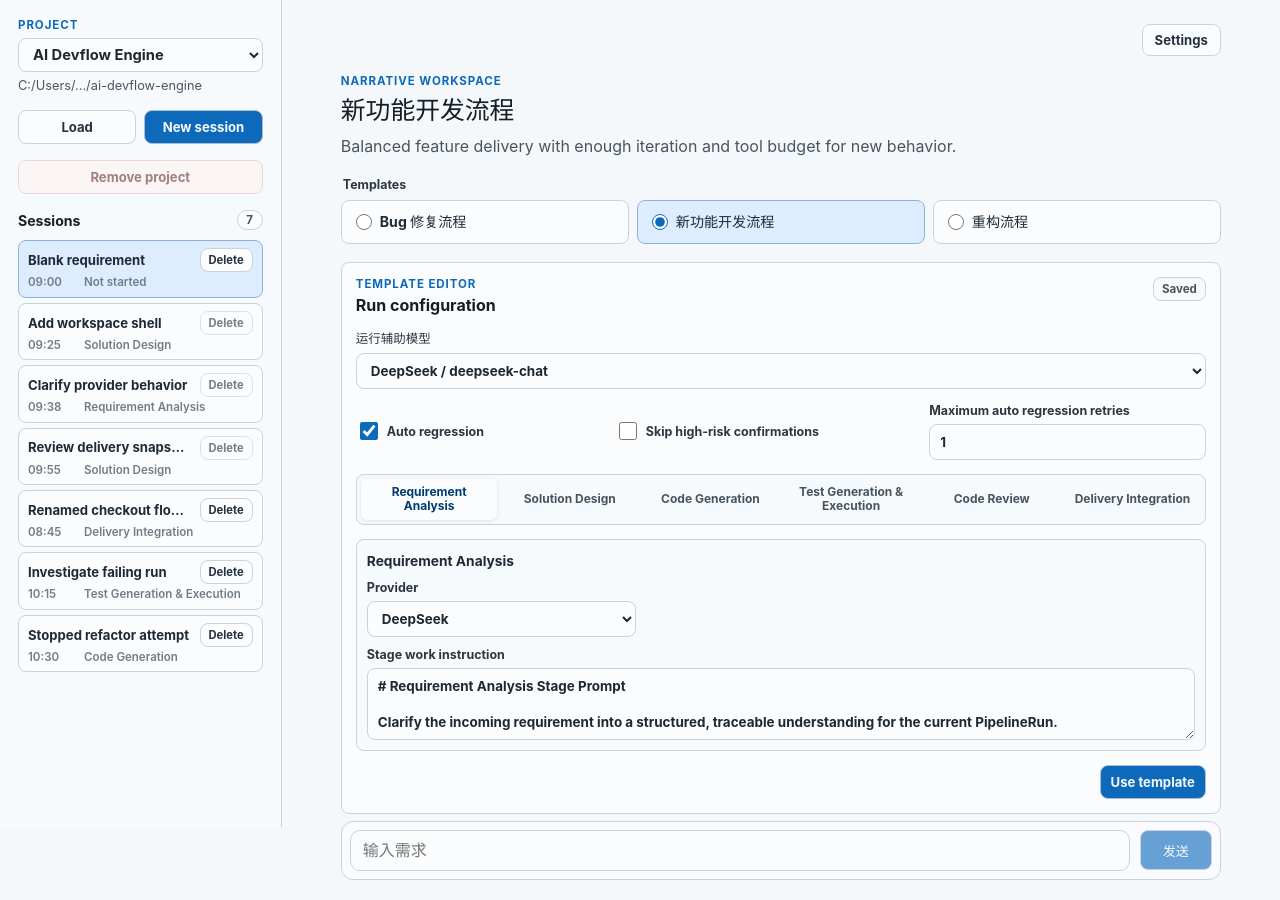
Test: WorkspaceShell › opens a selected session from the sidebar and shows session metadata
Expected: the element named "Template empty state" is shown, [341, 74, 1221, 814]
Expected: the element named "Open Add workspace shell" is shown, [18, 303, 263, 360]
Click the button with aria-label "Open Add workspace shell" at (110, 323), box [28, 315, 192, 331]
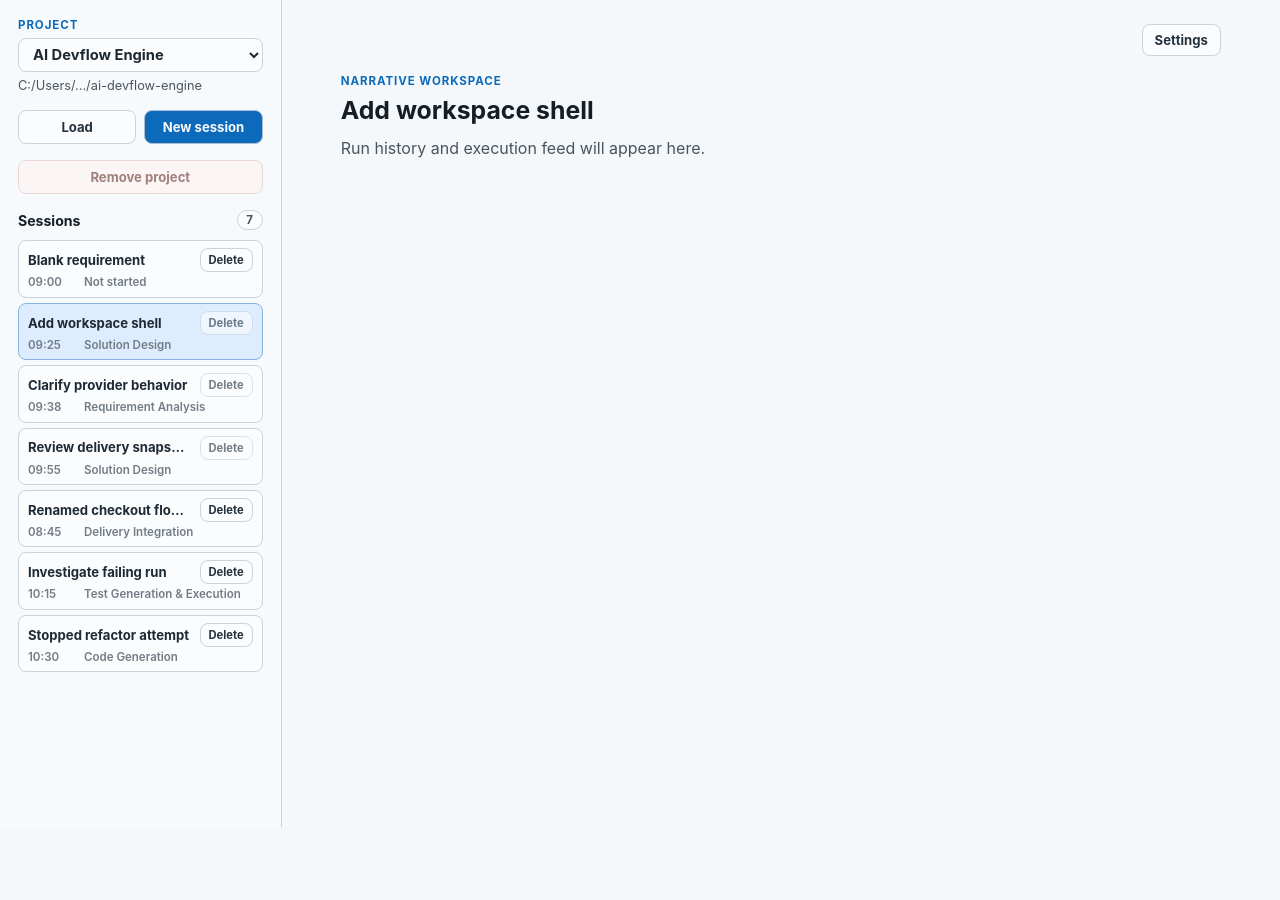
Now the heading "Add workspace shell" is shown, box [341, 95, 594, 125]
